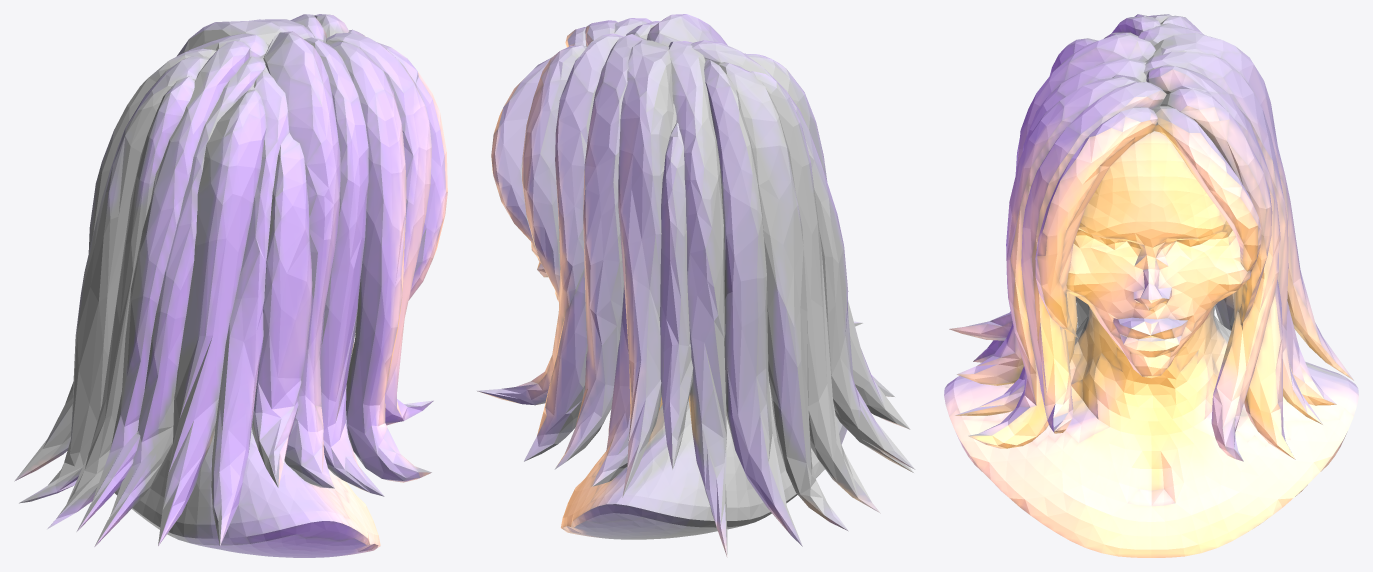
File: Filter_3.glb
3 views of the same model, side by side, from view 1: azimuth 30°, elevation 25°; view 2: azimuth 150°, elevation 25°; view 3: azimuth 270°, elevation 25° (orthographic). The views are drawn at different scales.
Visible parts, largest first — view 1: buste_4; view 2: buste_4; view 3: buste_4.
Part boxes in pixels (<box>): buste_4: <box>14,14,447,557</box>; buste_4: <box>476,14,915,557</box>; buste_4: <box>944,14,1358,557</box>.
Size of the model in its own units: 71.68 by 94.14 by 71.61.
